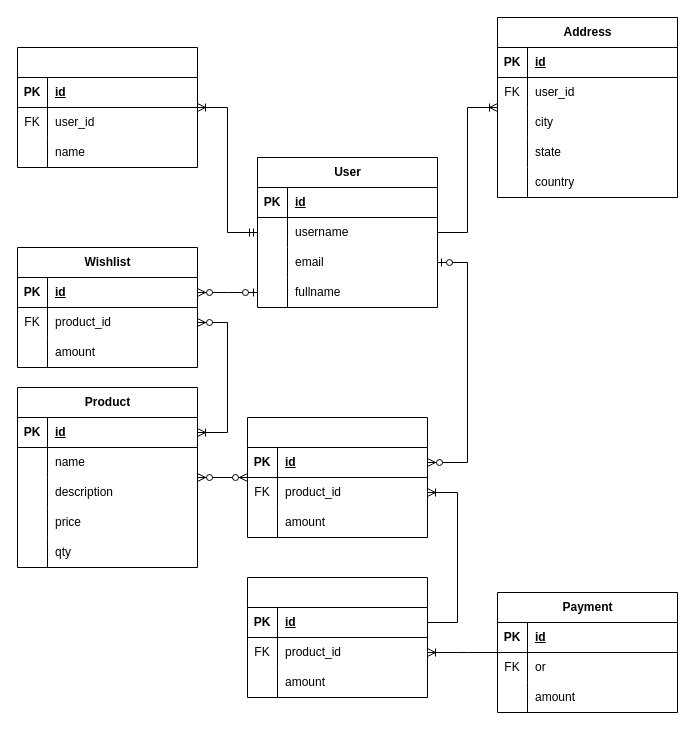
Some shapes in this 695 by 730 pixel diagram are drawn without their labels. Here are the shapes that lost their labels. From the top down, the box of each, then its label:
(16, 46, 198, 168): Role
(246, 416, 428, 538): Cart
(246, 576, 428, 698): Order
